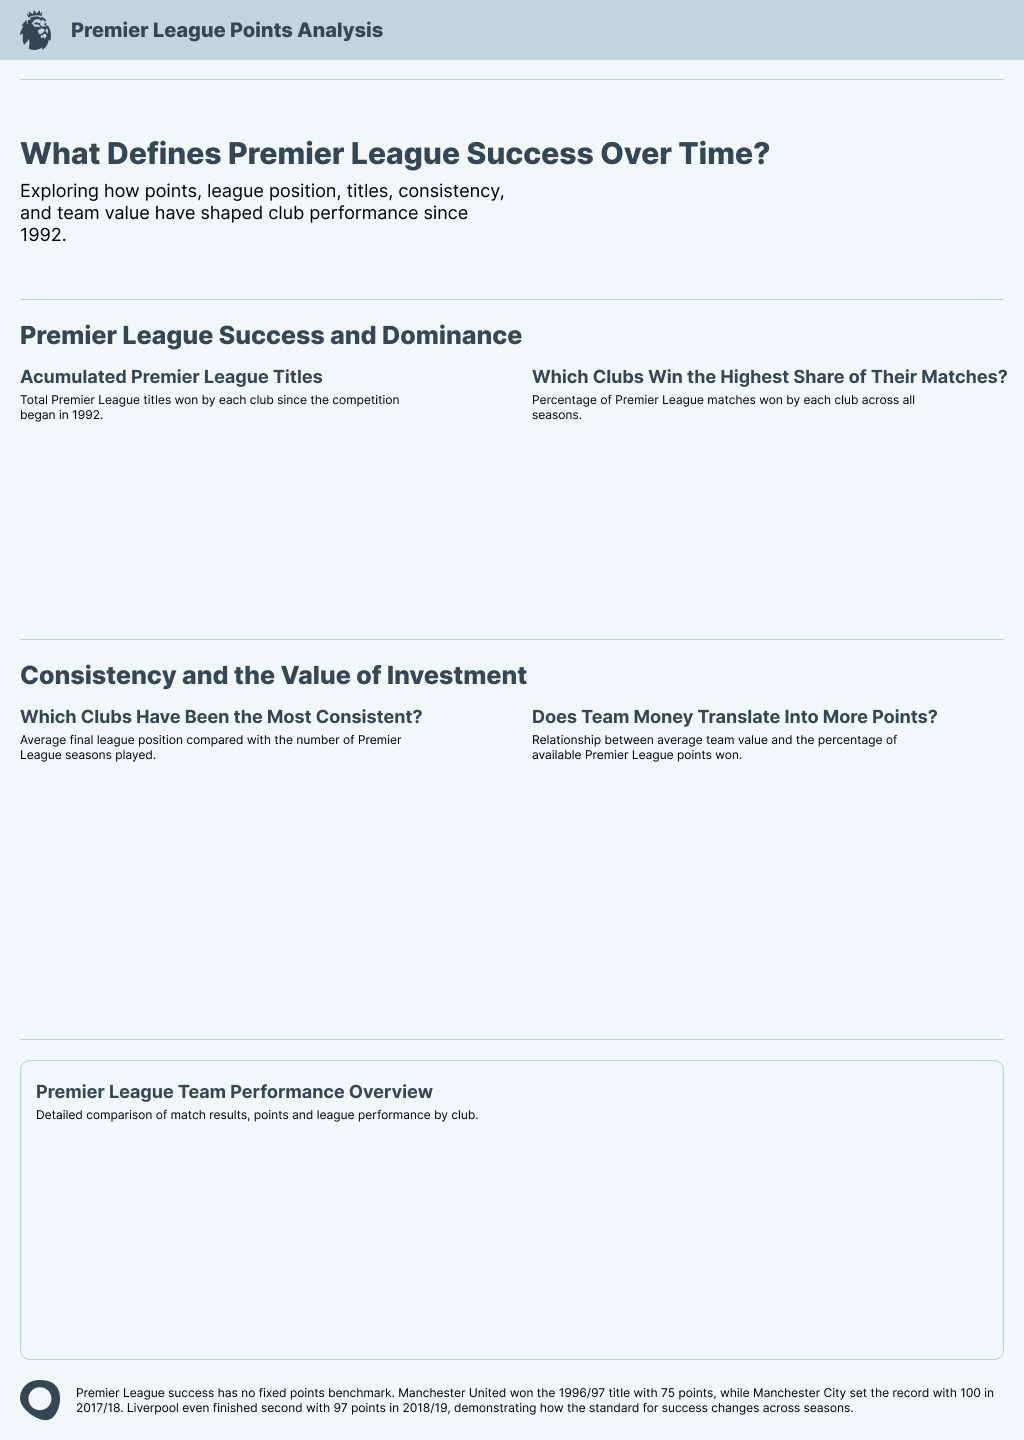

Layout of this report page (visuals, bound fields, positions):
{"tool":"powerbi","page":{"name":"Points","canvas":[1024,1440],"ordinal":1},"visuals":[{"type":"tableEx","fields":{"Values":["d_premier-teams.svg_link","d_premier-teams.team_name","_measures.all_played","_measures.all_wins","_measures.all_draws","_measures.all_losses","_measures.all_goaldiff","_measures.all_points","_measures.points_percentage","_measures.avg_final_pos","_measures.seasons_played"]},"box":[26.7,1128.3,966.7,208.3],"z":0},{"type":"tableEx","fields":{"Values":["d_premier-teams.svg_link","d_premier-teams.team_name","_measures.all_titles"]},"box":[27,432,430,186],"z":1000},{"type":"scatterChart","fields":{"Category":["d_premier-teams.team_name"],"X":["_measures.avg_team_value"],"Y":["_measures.points_percentage"]},"box":[523.8,767.5,468.8,265],"z":2000},{"type":"scatterChart","fields":{"Category":["d_premier-teams.team_name"],"X":["_measures.seasons_played"],"Y":["_measures.avg_final_pos"]},"box":[17.5,767.5,470,265],"z":3000},{"type":"tableEx","fields":{"Values":["d_premier-teams.svg_link","d_premier-teams.team_name","_measures.win_percetage"]},"box":[525,431,469,187],"z":4000},{"type":"slicer","fields":{"Values":["d_premier-season.season_name"]},"box":[847.5,3.8,165,47.5],"z":5000}]}

Visuals, with their boxes in screenshot pixels (x1, y1, x2, y2), scaled from the page's 1024x1440 canvas onto the 1024x1440 screenshot:
tableEx - d_premier-teams.svg_link x d_premier-teams.team_name: 27 1128 993 1337
tableEx - d_premier-teams.svg_link x d_premier-teams.team_name: 27 432 457 618
scatterChart - d_premier-teams.team_name x _measures.avg_team_value: 524 768 993 1032
scatterChart - d_premier-teams.team_name x _measures.seasons_played: 18 768 488 1032
tableEx - d_premier-teams.svg_link x d_premier-teams.team_name: 525 431 994 618
slicer - d_premier-season.season_name: 848 4 1012 51
